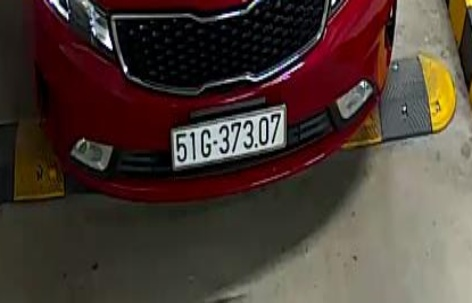plate: (161, 101, 288, 171)
